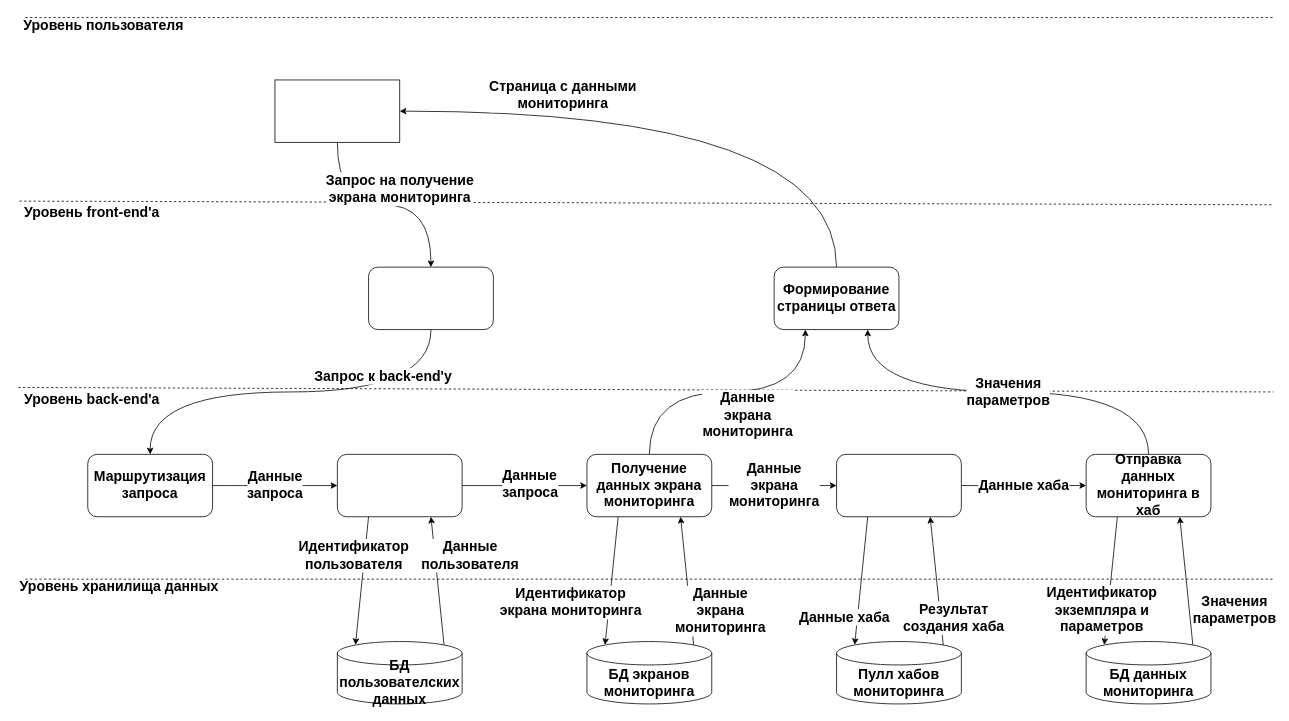
This 1289x721 diagram has some shape labels left out. The centre of each missing label's shape, as x and y in pixels:
Пользователь: [337,110]
Проверка авторизации: [399,485]
Создание хаба мониторинга: [898,485]
Формирование запроса к back-end'у: [430,298]
